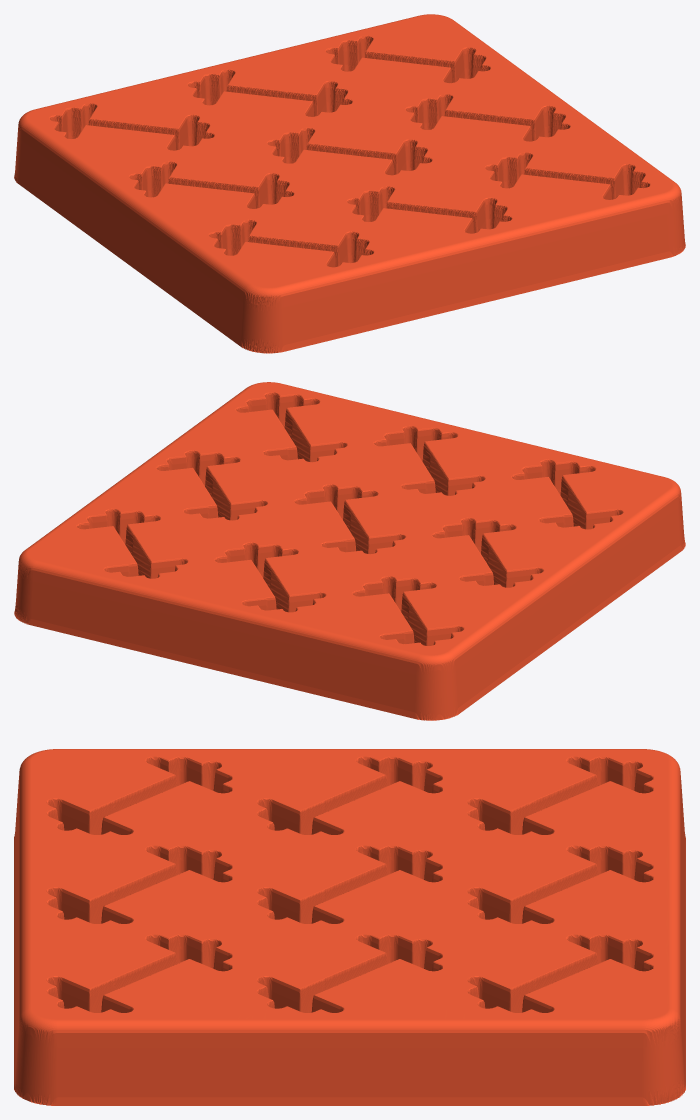
File: mold.glb
3 views of the same model, one above another, from view 1: azimuth 30°, elevation 25°; view 2: azimuth 150°, elevation 25°; view 3: azimuth 270°, elevation 25° (orthographic). The views are drawn at different scales.
Visible parts, largest first — view 1: geometry_0; view 2: geometry_0; view 3: geometry_0.
Part boxes in pixels (x1=…): geometry_0: x1=14, y1=14, x2=685, y2=353; geometry_0: x1=14, y1=382, x2=685, y2=720; geometry_0: x1=14, y1=749, x2=685, y2=1105.
Bounding box in the file's own units: 0.1402 × 0.0182 × 0.1402.
